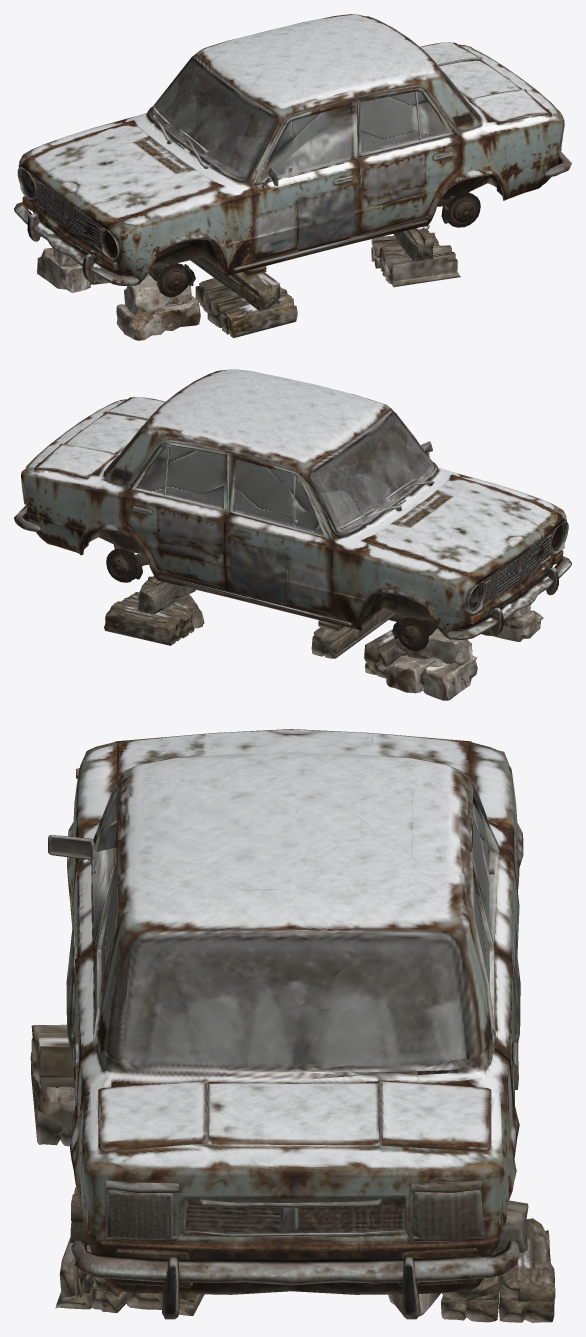
Rendered from jt_car.glb.
3 renders of one model, top to bottom at view 1: azimuth 30°, elevation 25°; view 2: azimuth 150°, elevation 25°; view 3: azimuth 270°, elevation 25°, orthographic. The views are drawn at different scales.
Size of the model in its own units: 0.9565 by 0.3882 by 0.4565.
Materials: 1 (1 with a texture image).
